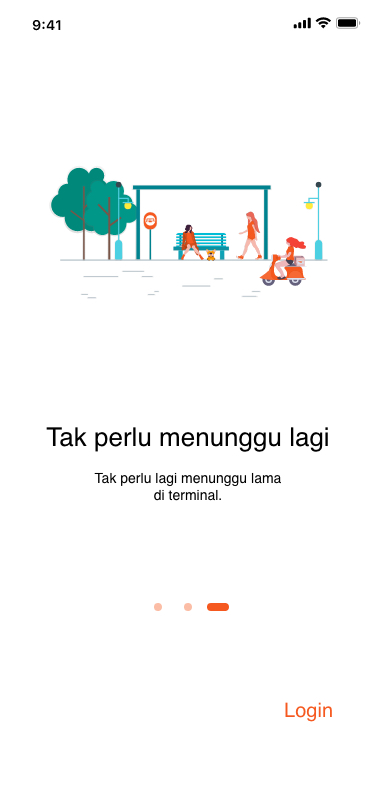Image: (51, 168, 329, 300)
PageIndicator: (154, 602, 230, 612)
Text: (46, 427, 329, 453), (95, 473, 282, 501), (284, 701, 333, 722)
UpperTaskBar: (33, 17, 361, 32)
